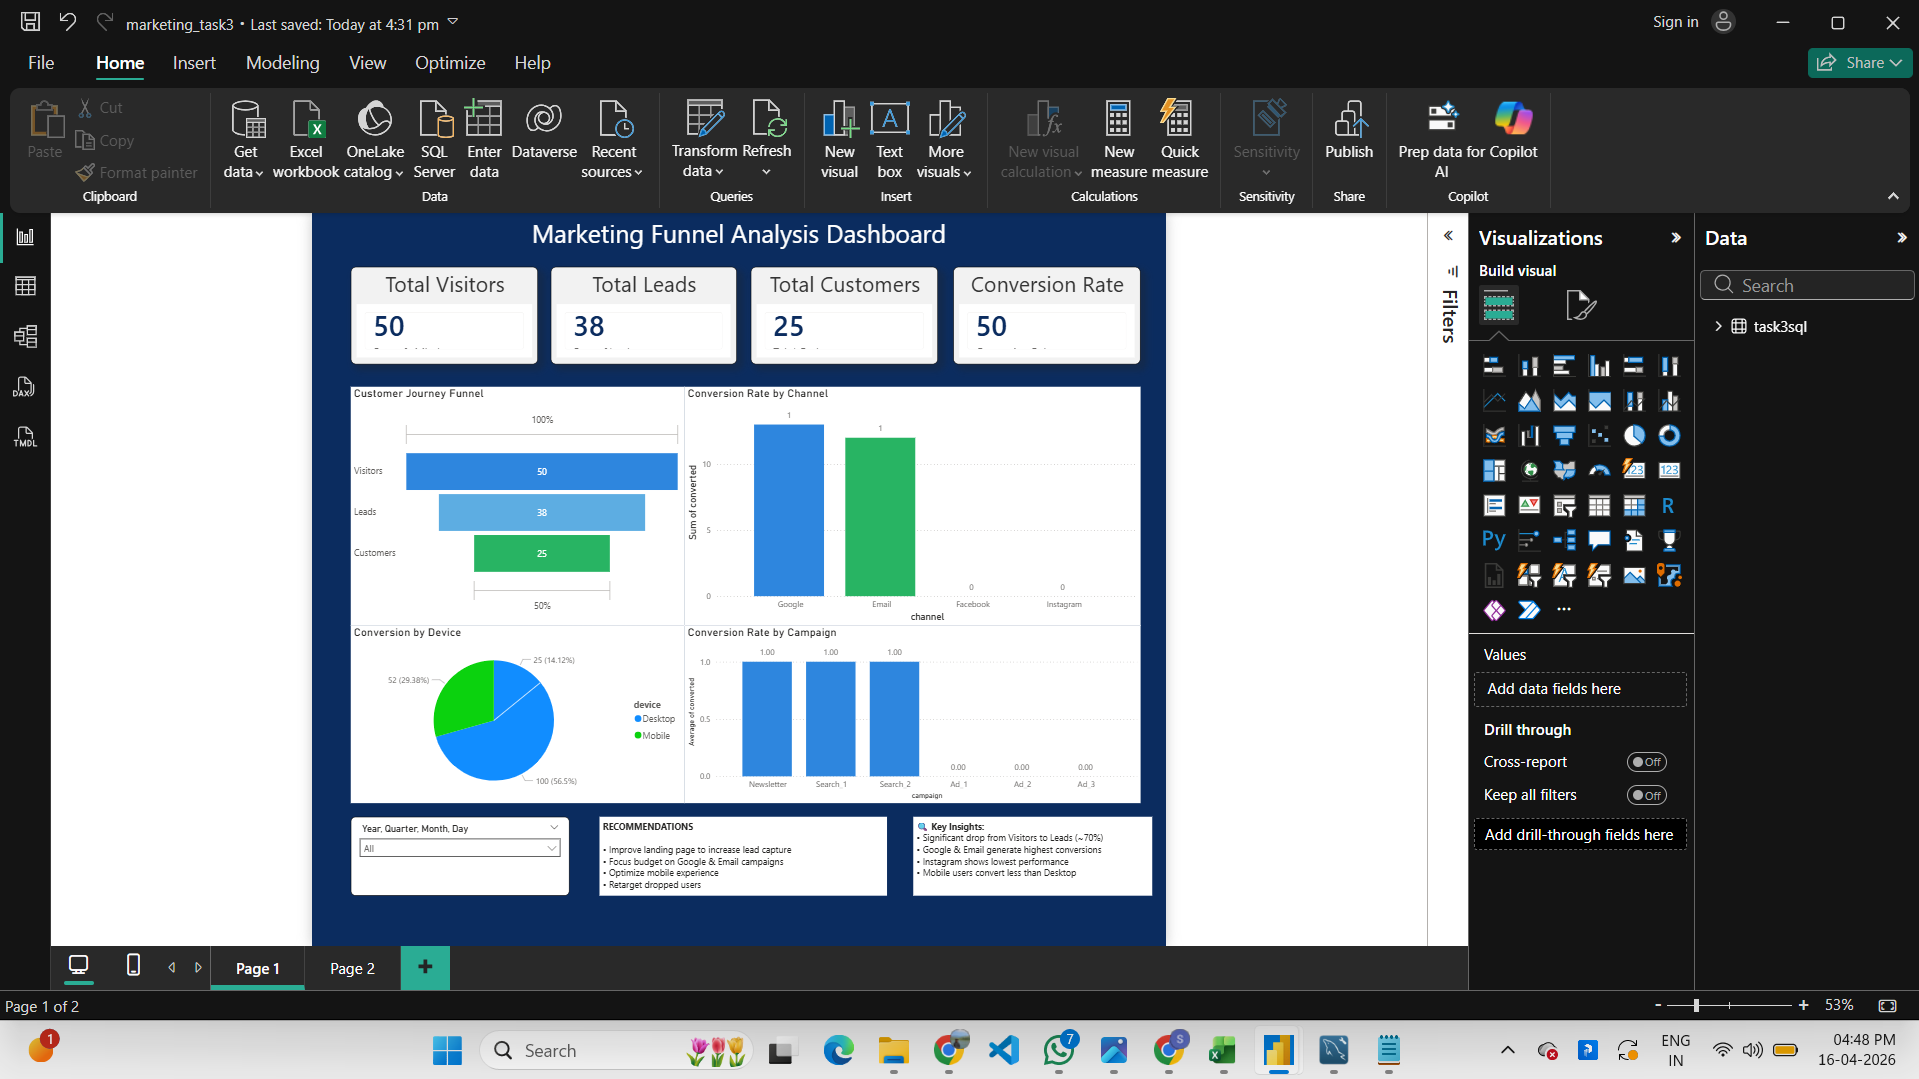

What the dashboard file says about the page in this screenshot:
{"tool":"powerbi","page":{"name":"Page 1","canvas":[1280,1100],"ordinal":0},"visuals":[{"type":"cardVisual","title":"Total Visitors","fields":{"Data":["Sum(task3sql.visited)"]},"box":[58.1,80.6,281.2,146.2],"z":0},{"type":"cardVisual","title":"Total Leads","fields":{"Data":["Sum(task3sql.leads)"]},"box":[358,80.6,279.3,146.2],"z":1000},{"type":"cardVisual","title":"Total Customers","fields":{"Data":["task3sql.Total Customers"]},"box":[658,80.6,281.2,146.2],"z":2000},{"type":"cardVisual","title":"Conversion Rate","fields":{"Data":["task3sql.Conversion Rate"]},"box":[961.7,80.6,281.2,146.2],"z":3000},{"type":"textbox","box":[0,0,1280.3,75.5],"z":4000},{"type":"funnel","title":"Customer Journey Funnel","fields":{"Y":["Sum(task3sql.visited)","Sum(task3sql.leads)","Sum(task3sql.converted)"]},"box":[58.1,260.6,500.5,358],"z":5000},{"type":"pieChart","title":"Conversion by Device","fields":{"Category":["task3sql.device"],"Y":["task3sql.Total Customers","task3sql.Lead Conversion %"]},"box":[58.1,618.6,500.5,266.2],"z":6000},{"type":"clusteredColumnChart","title":"Conversion Rate by Campaign","fields":{"Category":["task3sql.campaign"],"Y":["Avg(task3sql.converted)"]},"box":[558.6,618.6,684.2,266.2],"z":7000},{"type":"slicer","fields":{"Values":["task3sql.date.Variation.Date Hierarchy.Year","task3sql.date.Variation.Date Hierarchy.Quarter","task3sql.date.Variation.Date Hierarchy.Month","task3sql.date.Variation.Date Hierarchy.Day"]},"box":[58.1,905.4,328.1,118.1],"z":8000},{"type":"clusteredColumnChart","title":"Conversion Rate by Channel","fields":{"Category":["task3sql.channel"],"Y":["Sum(task3sql.converted)"]},"box":[558.6,260.6,684.2,358],"z":9000},{"type":"textbox","box":[901.7,905.4,358,118.1],"z":10000},{"type":"textbox","box":[431.2,905.4,431.2,118.1],"z":11000}]}

Visuals, with their boxes on the page's 1280x1100 design canvas (x1, y1, x2, y2). These are canvas units, not pixel positions in the 1919x1079 screenshot, which may show the page scaled, cropped or inside an application window:
"Total Visitors" cardVisual: <region>58, 81, 339, 227</region>
"Total Leads" cardVisual: <region>358, 81, 637, 227</region>
"Total Customers" cardVisual: <region>658, 81, 939, 227</region>
"Conversion Rate" cardVisual: <region>962, 81, 1243, 227</region>
textbox: <region>0, 0, 1280, 76</region>
"Customer Journey Funnel" funnel: <region>58, 261, 559, 619</region>
"Conversion by Device" pieChart: <region>58, 619, 559, 885</region>
"Conversion Rate by Campaign" clusteredColumnChart: <region>559, 619, 1243, 885</region>
slicer - task3sql.date.Variation.Date Hierarchy.Year x task3sql.date.Variation.Date Hierarchy.Quarter: <region>58, 905, 386, 1024</region>
"Conversion Rate by Channel" clusteredColumnChart: <region>559, 261, 1243, 619</region>
textbox: <region>902, 905, 1260, 1024</region>
textbox: <region>431, 905, 862, 1024</region>
